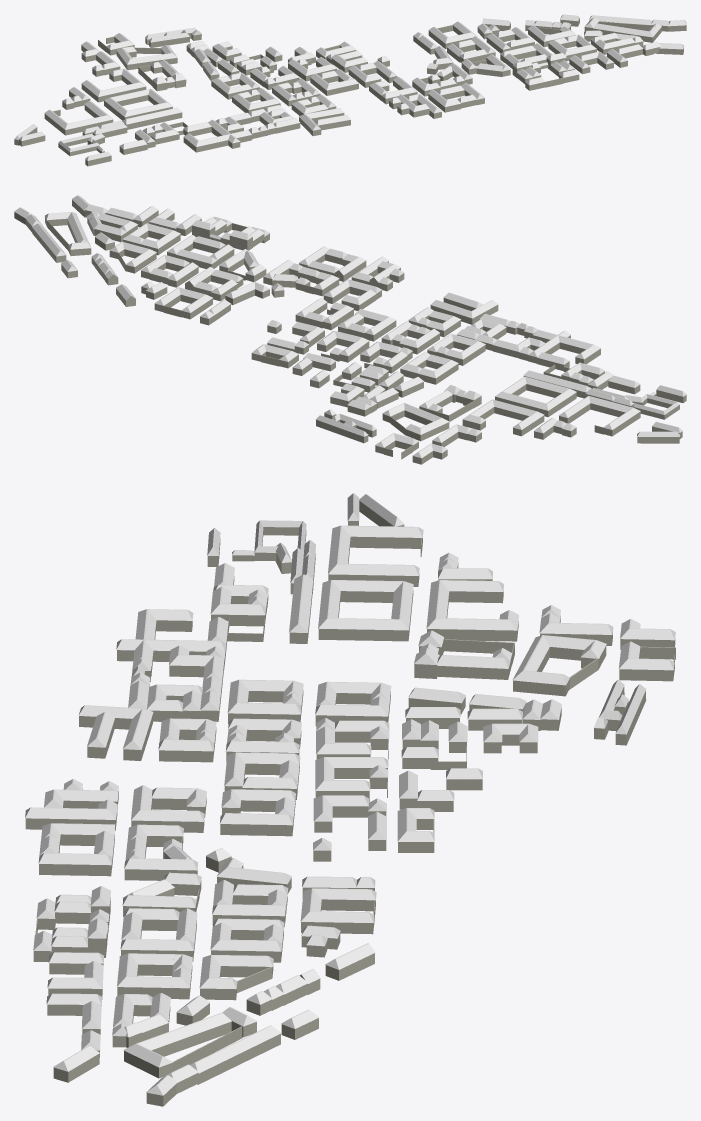
Rendered from SingleCity.fbx.
The picture shows the model from 3 angles, top to bottom: view 1: azimuth 30°, elevation 25°; view 2: azimuth 150°, elevation 25°; view 3: azimuth 270°, elevation 25°; orthographic projection. The views are drawn at different scales.
Visible parts, largest first — view 1: SingleCity; view 2: SingleCity; view 3: SingleCity.
Part boxes in pixels (left/top/right/bottom): SingleCity: left=14, top=14, right=686, bottom=166; SingleCity: left=14, top=195, right=686, bottom=464; SingleCity: left=25, top=493, right=675, bottom=1106.
Bounding box in the file's own units: 86702 × 3456 × 39371.
